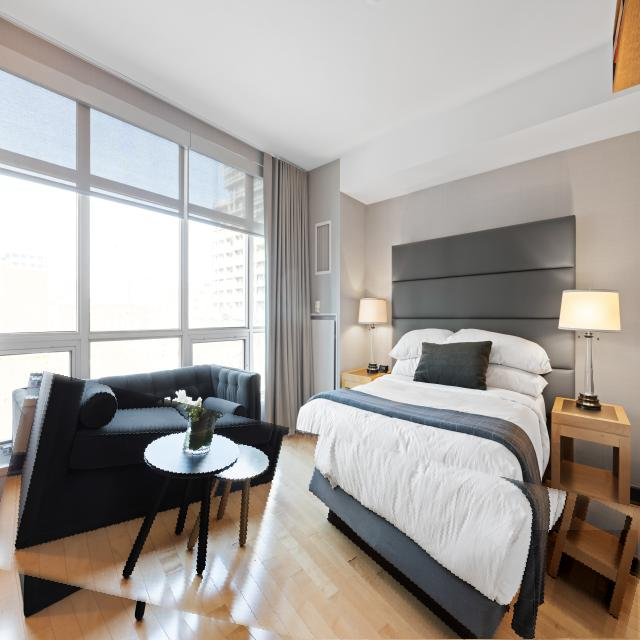floor: (0, 430, 463, 640), (535, 531, 638, 639), (491, 583, 527, 640), (477, 638, 481, 640)
